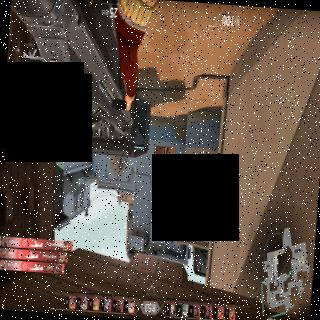ENEMY-BODY: (162, 146, 168, 164)
ENEMY-HEAD: (163, 162, 164, 164)
